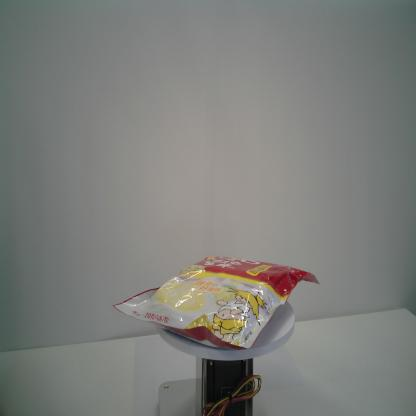Instant Drink: (110, 254, 321, 352)
